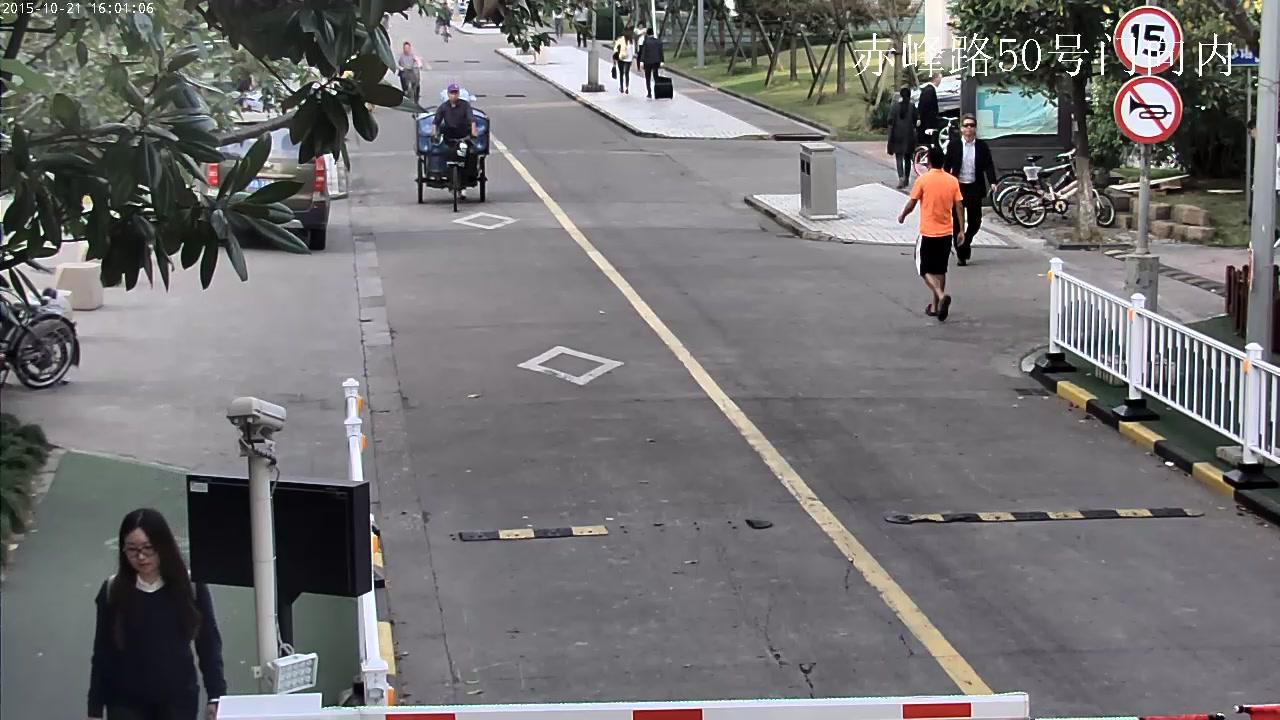face: (124, 528, 160, 570), (962, 118, 976, 136), (449, 89, 459, 100), (935, 74, 941, 86), (404, 44, 410, 51), (577, 0, 582, 6), (639, 23, 643, 27)
